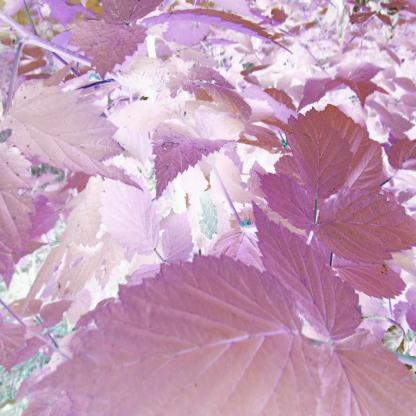Raspberry leaf: (246, 199, 366, 340), (310, 184, 416, 268), (286, 107, 349, 202), (254, 162, 316, 232)
